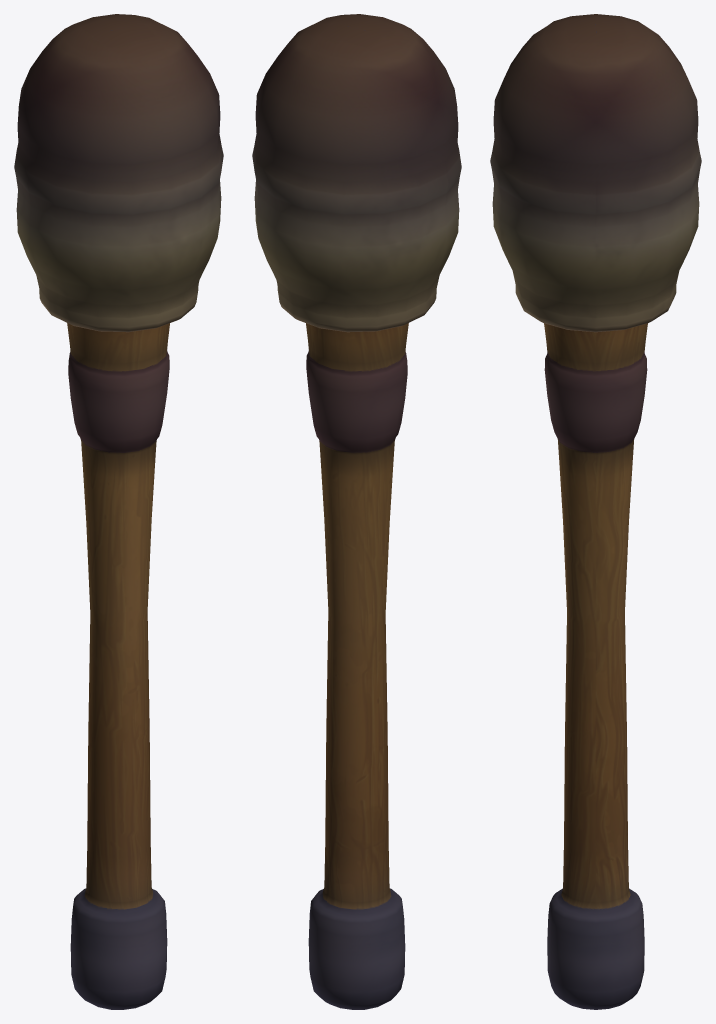
File: HandTorch.fbx
3 views of the same model, side by side, from view 1: azimuth 30°, elevation 25°; view 2: azimuth 150°, elevation 25°; view 3: azimuth 270°, elevation 25° (orthographic).
Visible parts, largest first — view 1: HandTorch; view 2: HandTorch; view 3: HandTorch.
Part boxes in pixels (x1,y1,x2,y2): HandTorch: (14, 14, 223, 1009); HandTorch: (252, 14, 461, 1009); HandTorch: (490, 14, 701, 1009).
Size of the model in its own units: 10.46 by 53.02 by 10.46.
